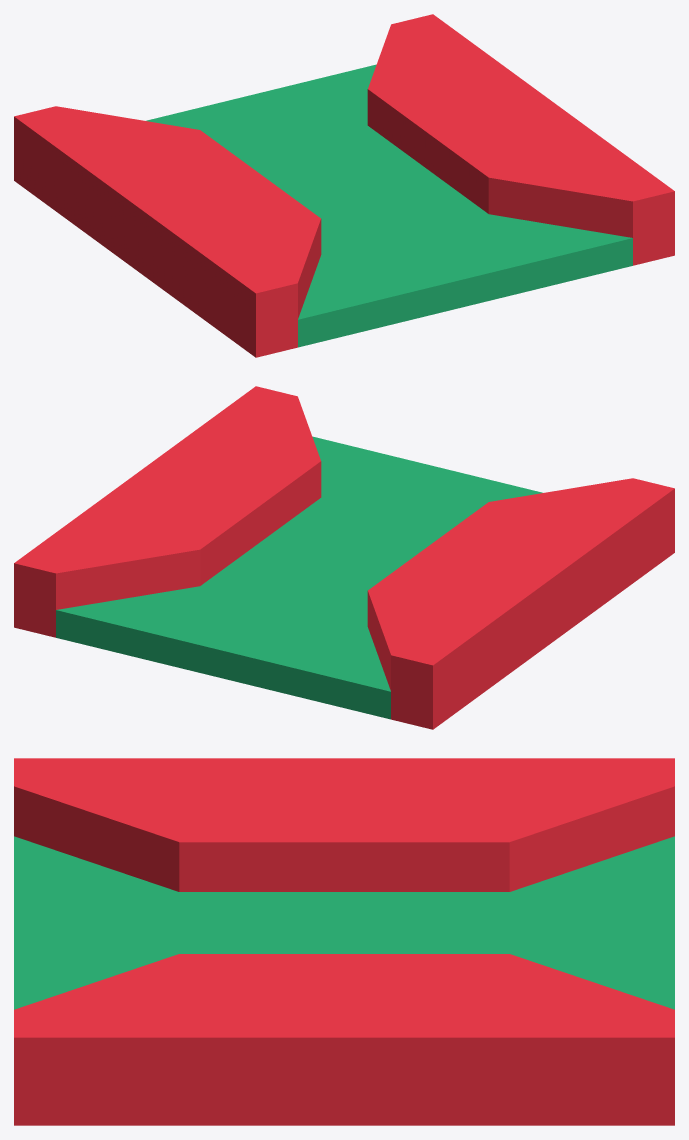
Rendered from narrowSquare.fbx.
3 renders of one model, top to bottom at view 1: azimuth 30°, elevation 25°; view 2: azimuth 150°, elevation 25°; view 3: azimuth 270°, elevation 25°, orthographic. The views are drawn at different scales.
Parts seen in each view (by area): view 1: narrowSquare; view 2: narrowSquare; view 3: narrowSquare.
Part boxes in pixels (x1=…): narrowSquare: x1=14, y1=14, x2=674, y2=357; narrowSquare: x1=14, y1=386, x2=674, y2=729; narrowSquare: x1=14, y1=758, x2=674, y2=1125.
Size of the model in its own units: 10 by 1.47 by 10.
